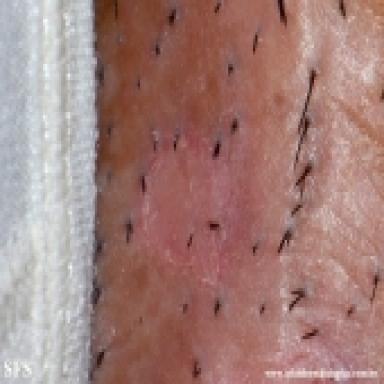Porokeratosis: (142, 116, 252, 285)
